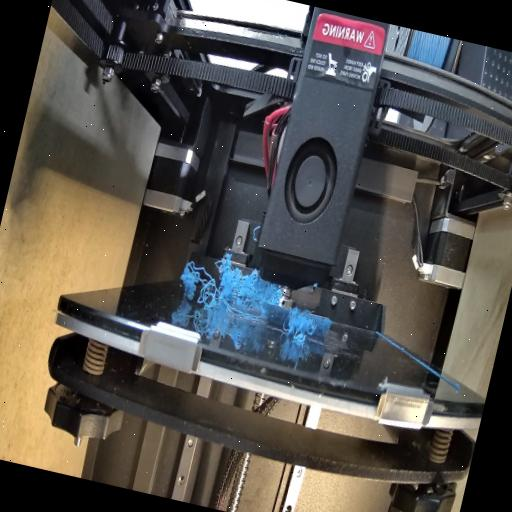spaghetti: (194, 256, 288, 333), (276, 302, 322, 350), (174, 260, 206, 310)
